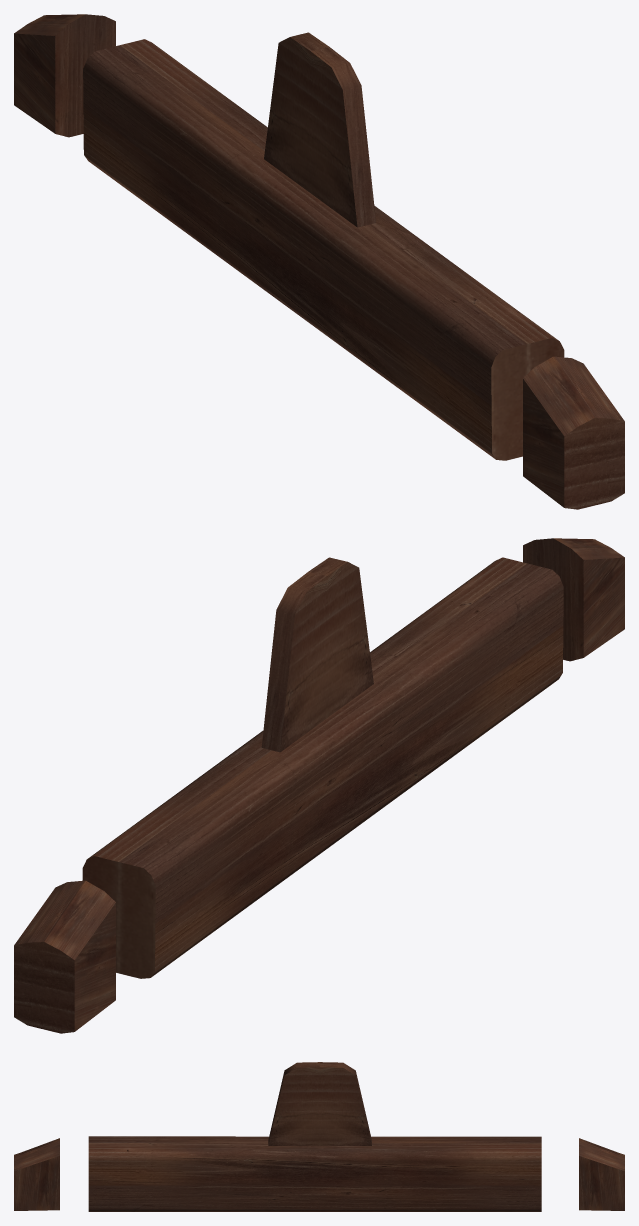
The model's file is SM_R_MiddleBeam_21.fbx.
3 views of the same model, one above another, from view 1: azimuth 30°, elevation 25°; view 2: azimuth 150°, elevation 25°; view 3: azimuth 270°, elevation 25° (orthographic). The views are drawn at different scales.
Parts seen in each view (by area): view 1: SM_R_MiddleBeam_21; view 2: SM_R_MiddleBeam_21; view 3: SM_R_MiddleBeam_21.
Boxes of the visible parts, bbox=[...] form: SM_R_MiddleBeam_21: bbox=[14, 14, 624, 509]; SM_R_MiddleBeam_21: bbox=[14, 538, 624, 1033]; SM_R_MiddleBeam_21: bbox=[14, 1062, 624, 1211].
Size of the model in its own units: 28.86 by 376 by 95.9.
2 materials, 2 textured.
